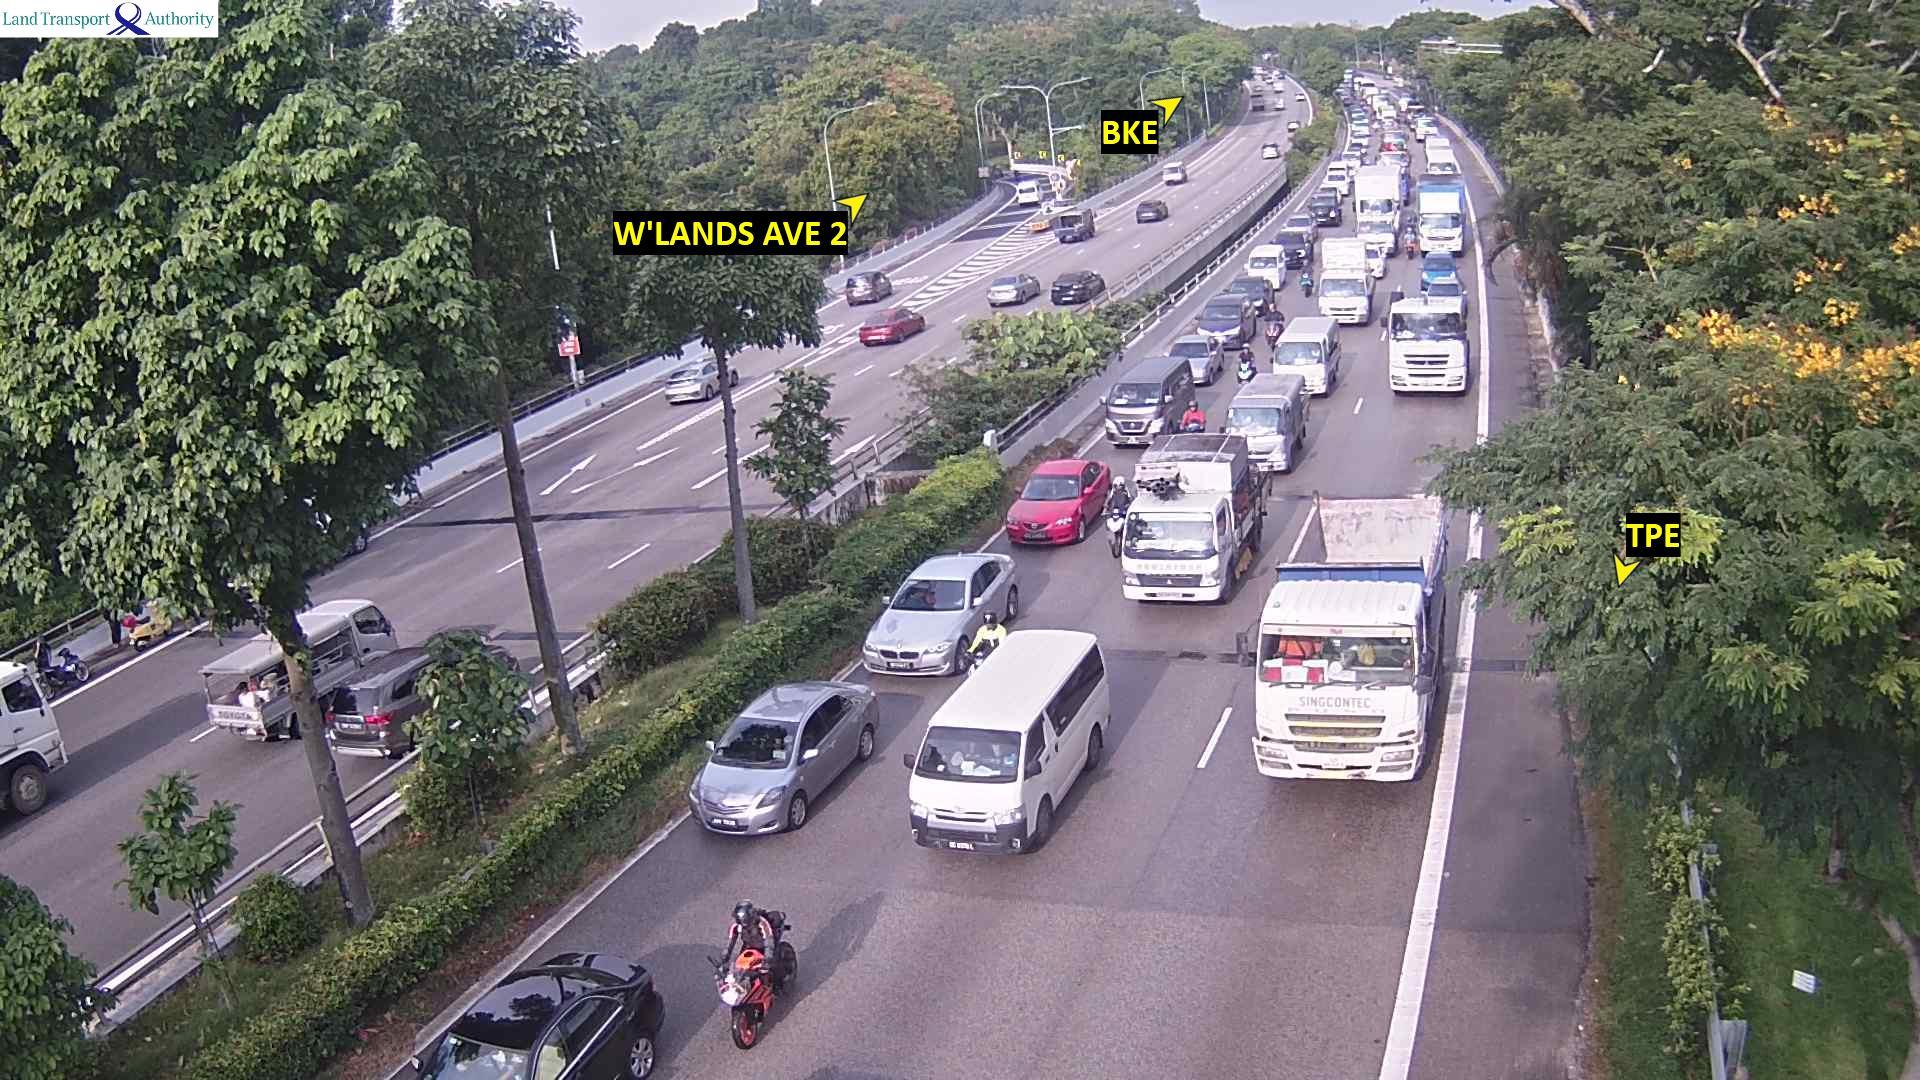cars: (902, 626, 1112, 855), (407, 949, 665, 1077), (687, 678, 880, 836), (322, 629, 522, 760), (860, 550, 1019, 676), (1273, 491, 1448, 596), (1004, 456, 1112, 546), (1221, 371, 1309, 473), (1379, 295, 1469, 394), (1098, 355, 1197, 444), (1269, 314, 1341, 396), (1193, 290, 1255, 349), (663, 357, 738, 404), (1164, 332, 1224, 385), (857, 305, 924, 345), (1419, 269, 1468, 320), (1414, 210, 1465, 255), (1222, 273, 1275, 316), (1244, 243, 1287, 290), (1048, 268, 1104, 305), (985, 272, 1039, 306), (1418, 249, 1458, 291), (844, 269, 891, 305), (1271, 228, 1311, 268), (1054, 206, 1095, 243), (1305, 187, 1342, 225), (1321, 161, 1356, 198), (1135, 198, 1168, 222), (1013, 178, 1042, 204), (1423, 156, 1460, 175), (1160, 162, 1185, 185), (1027, 210, 1052, 232), (1261, 141, 1280, 160), (1340, 150, 1366, 161), (1286, 119, 1299, 135), (1352, 135, 1370, 145)
motorcycle: (707, 899, 798, 1050), (34, 638, 90, 687), (1102, 473, 1131, 558), (127, 607, 175, 650), (1298, 261, 1315, 298), (1267, 302, 1280, 340), (1240, 345, 1253, 382), (1185, 400, 1201, 429), (1402, 224, 1415, 257)
trucks: (1237, 491, 1449, 783), (198, 597, 397, 742), (1108, 430, 1270, 605), (0, 659, 69, 816), (1315, 266, 1371, 324), (1360, 173, 1400, 225)
